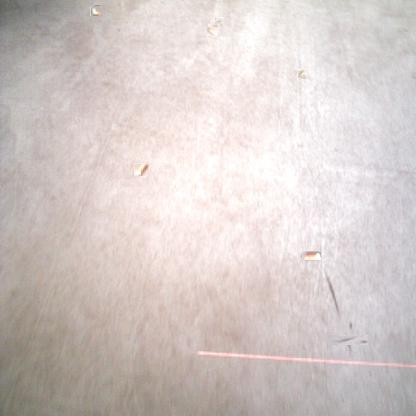dirty: (301, 250, 322, 260), (134, 163, 149, 177), (207, 25, 219, 37), (91, 6, 103, 17), (297, 69, 308, 79)
mark: (324, 268, 342, 320), (337, 328, 361, 352), (215, 17, 224, 25)
